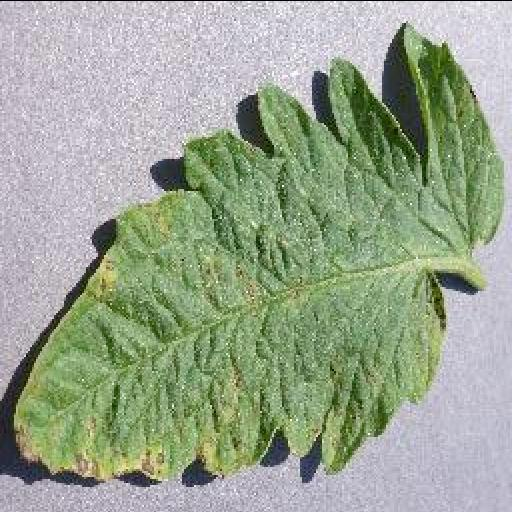disease_tomato: (12, 24, 508, 485)
